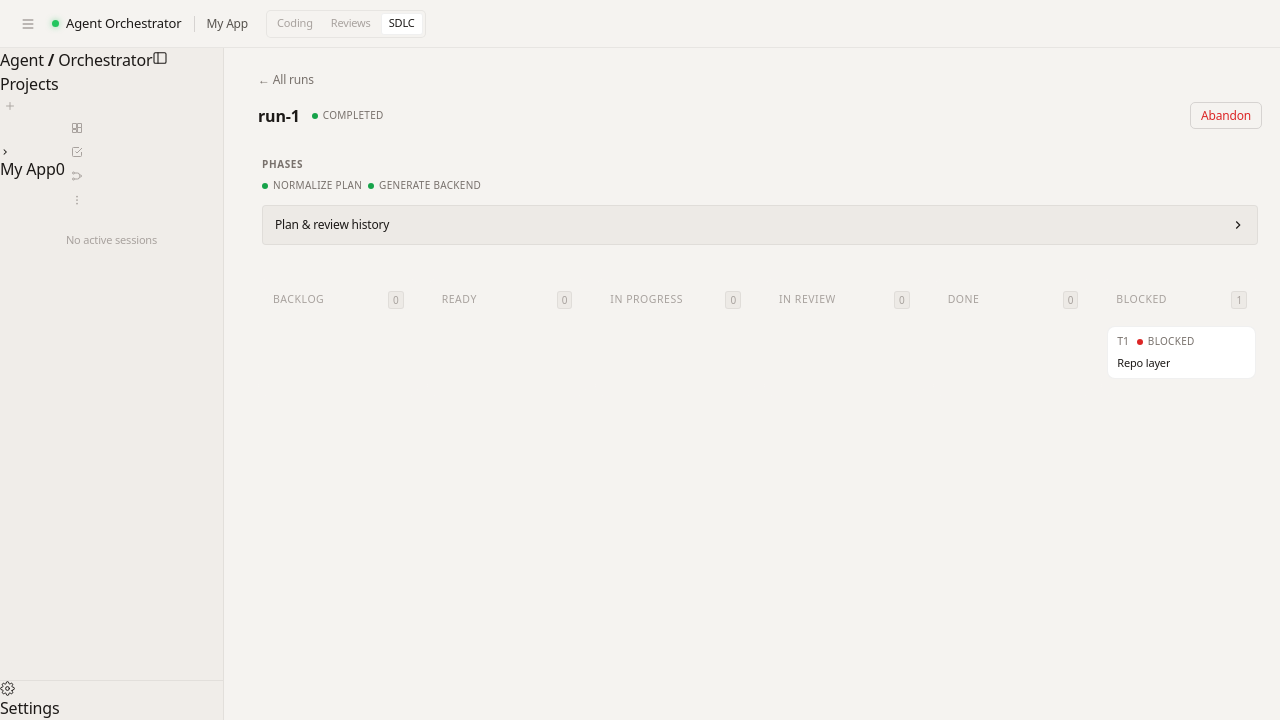
SdlcRunDetail › hides the amend box in the modal once the run has completed
Click the button "Plan & review history".
click(332, 224)  # box [262,205,1258,245]
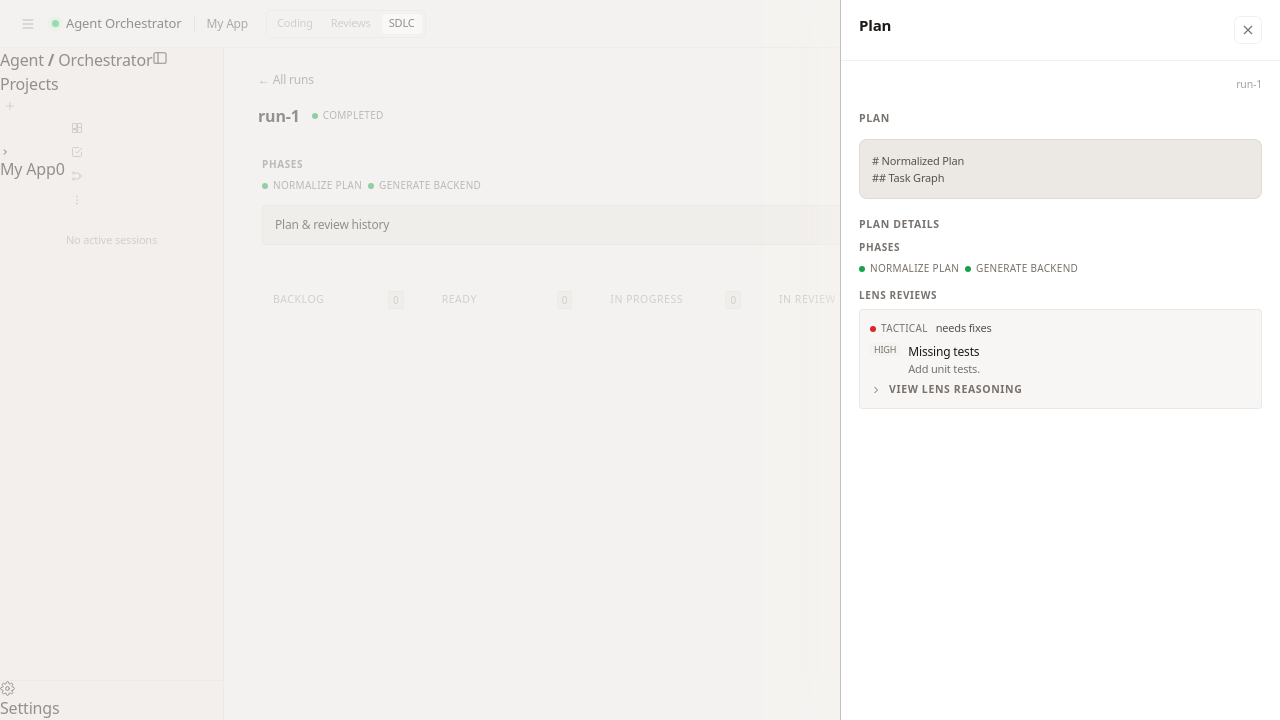
Check: the dialog named "Plan for run-1" is shown, box [840,0,1279,719]
